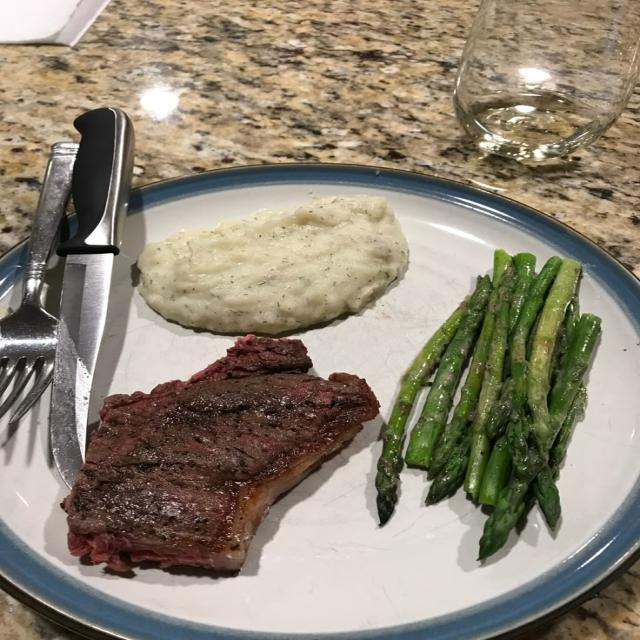asparagus: (480, 260, 580, 559), (376, 302, 466, 524), (429, 250, 511, 478), (406, 276, 492, 468), (487, 257, 561, 439), (465, 266, 515, 498), (429, 314, 495, 478), (527, 259, 581, 453), (535, 314, 601, 450), (480, 417, 542, 559), (510, 257, 561, 411), (534, 386, 586, 530), (549, 386, 586, 478), (426, 434, 471, 504), (479, 436, 511, 504), (510, 253, 536, 331), (532, 465, 560, 530), (486, 378, 514, 441), (560, 292, 579, 367)
beef steak: (62, 335, 378, 571)
mashed potatoes: (138, 195, 408, 333)
